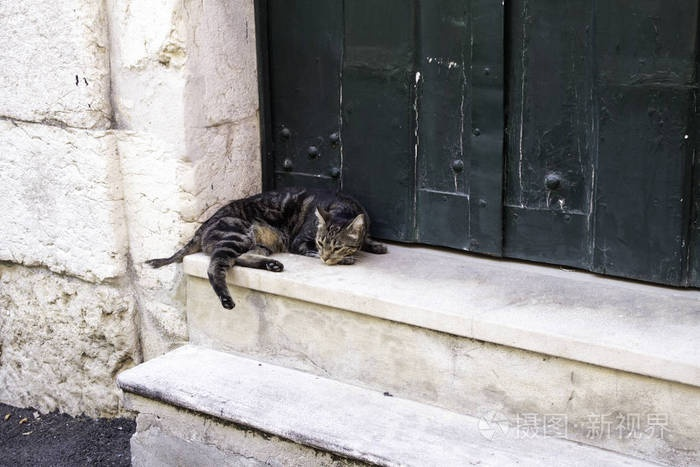cat: (145, 187, 390, 310)
